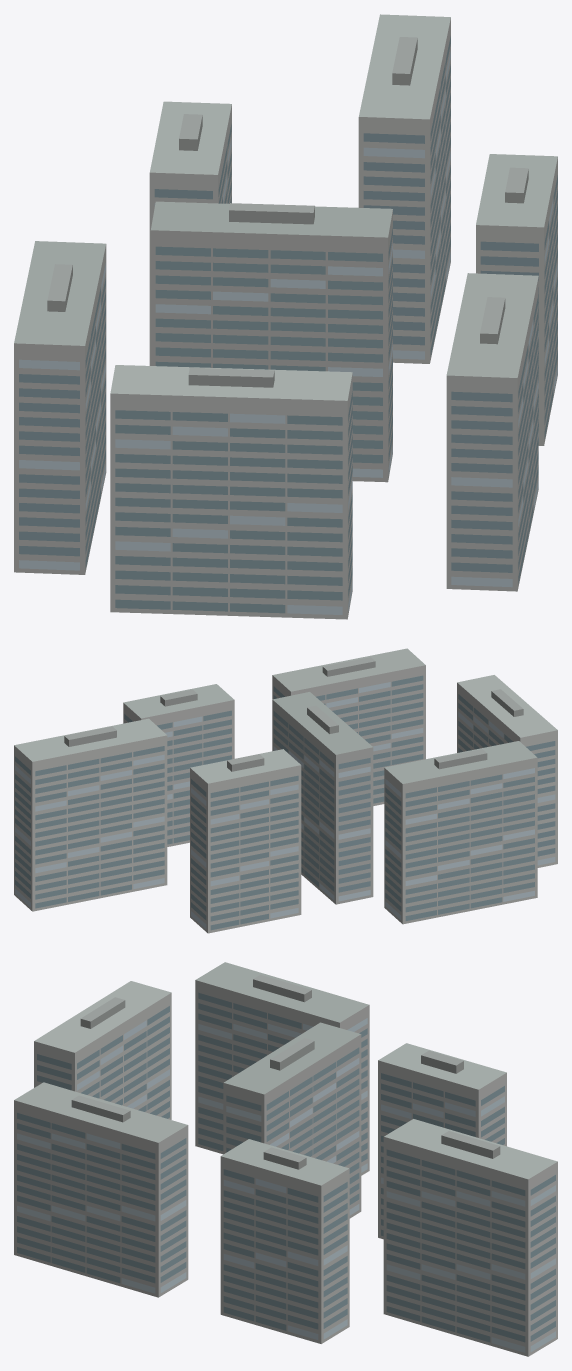
File: apt-a15721005.glb
3 views of the same model, one above another, from view 1: azimuth 30°, elevation 25°; view 2: azimuth 150°, elevation 25°; view 3: azimuth 270°, elevation 25° (orthographic). The views are drawn at different scales.
Visible parts, largest first — view 1: apt-a15721005; view 2: apt-a15721005; view 3: apt-a15721005.
Part boxes in pixels (left/top/right/bottom): apt-a15721005: left=14, top=14, right=557, bottom=619; apt-a15721005: left=14, top=648, right=557, bottom=933; apt-a15721005: left=14, top=962, right=557, bottom=1356.
Bounding box in the file's own units: 124 × 47 × 125.
